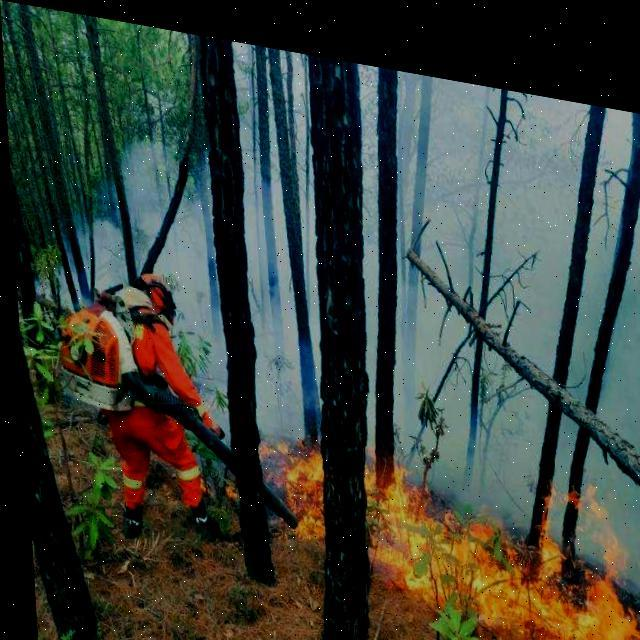Fire: (358, 425, 639, 639), (248, 388, 320, 532)
